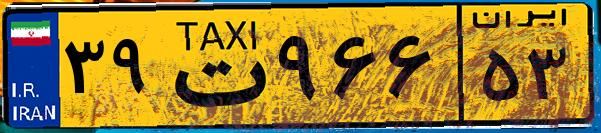3: (57, 26, 110, 100), (525, 38, 570, 115)
5: (475, 38, 525, 113)
6: (385, 28, 445, 110), (330, 28, 385, 110)
9: (270, 28, 330, 110), (110, 28, 158, 98)
ت: (158, 12, 270, 120)
